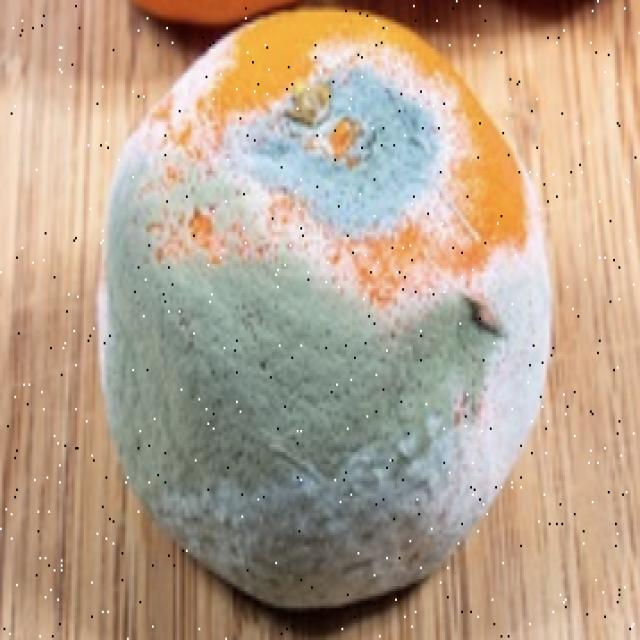sangat-busuk: (98, 8, 551, 608)
